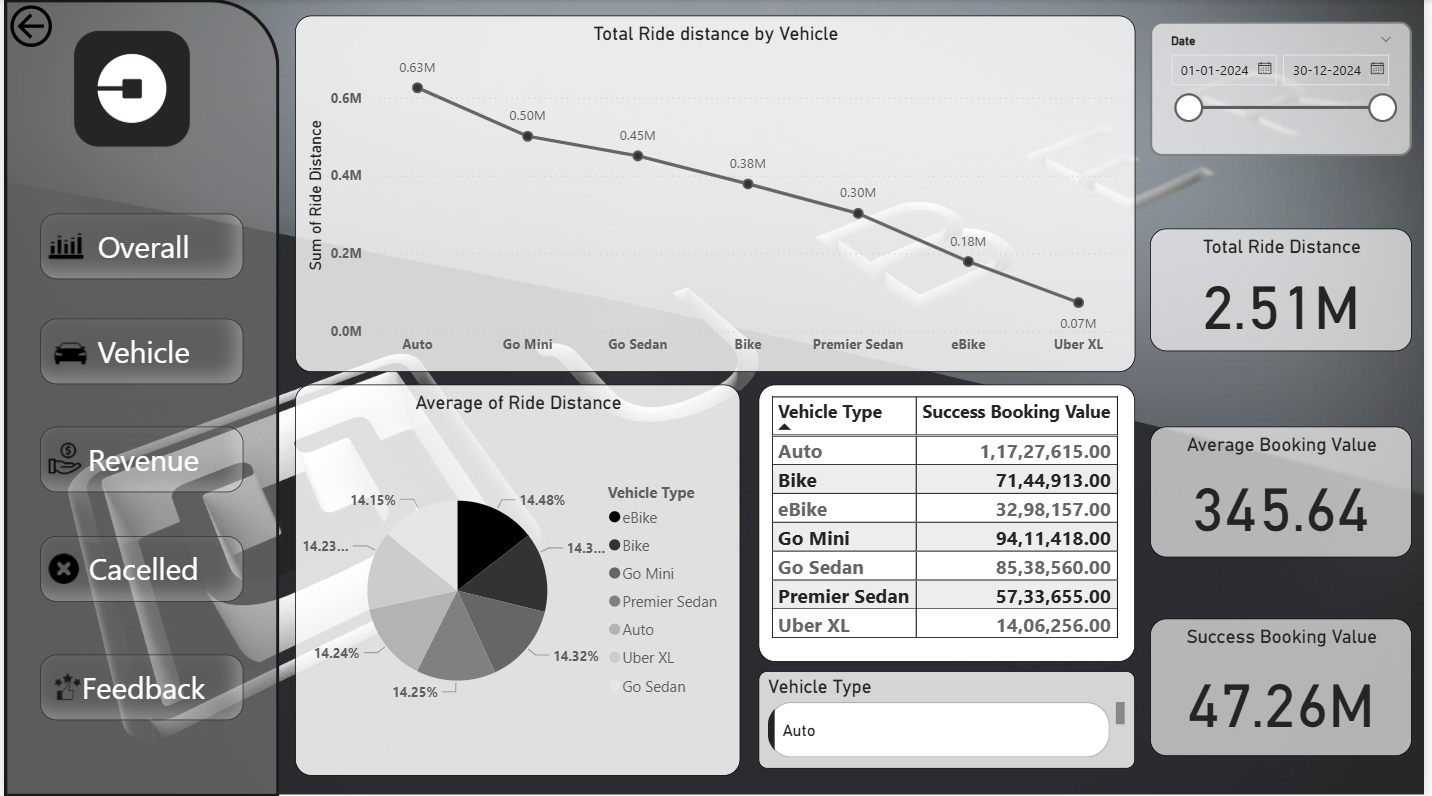

Layout of this report page (visuals, bound fields, positions):
{"tool":"powerbi","page":{"name":"Vehicle","canvas":[1280,720],"ordinal":2},"visuals":[{"type":"shape","box":[0,0,248.3,719.2],"z":0},{"type":"image","box":[0,16.7,230.2,128.7],"z":1000},{"type":"actionButton","box":[31.8,193.8,183.2,59.1],"z":2000},{"type":"actionButton","box":[31.8,484.5,183.2,59.1],"z":3000},{"type":"actionButton","box":[31.8,287.7,183.2,59.1],"z":4000},{"type":"actionButton","box":[31.8,384.6,183.2,59.1],"z":5000},{"type":"actionButton","box":[31.8,590.5,183.2,59.1],"z":6000},{"type":"slicer","fields":{"Values":["ncr_ride_bookings.Date"]},"box":[1032.7,19.7,236.2,121.1],"z":7000},{"type":"card","title":"Total Ride Distance","fields":{"Values":["Sum(ncr_ride_bookings.Ride Distance)"]},"box":[1032.7,207.4,236.2,110.5],"z":8000},{"type":"card","title":"Average Booking Value","fields":{"Values":["Avg(ncr_ride_bookings.Booking Value)"]},"box":[1032.7,384.6,236.2,118.1],"z":9000},{"type":"card","title":"Success Booking Value","fields":{"Values":["ncr_ride_bookings.Success Booking Value"]},"box":[1032.7,558.7,236.2,124.2],"z":10000},{"type":"pieChart","title":"Average of Ride Distance ","fields":{"Category":["ncr_ride_bookings.Vehicle Type"],"Y":["Avg(ncr_ride_bookings.Ride Distance)"]},"box":[262,346.8,401.3,352.8],"z":11000},{"type":"tableEx","fields":{"Values":["ncr_ride_bookings.Vehicle Type","ncr_ride_bookings.Success Booking Value"]},"box":[679.9,346.8,339.2,249.8],"z":12000},{"type":"lineChart","title":"Total Ride distance by Vehicle ","fields":{"Category":["ncr_ride_bookings.Vehicle Type"],"Y":["Sum(ncr_ride_bookings.Ride Distance)"]},"box":[262,15.1,757.1,321],"z":13000},{"type":"advancedSlicerVisual","fields":{"Values":["ncr_ride_bookings.Vehicle Type"]},"box":[679.9,605.7,339.2,87.8],"z":14000},{"type":"actionButton","box":[0,0,114.7,48.9],"z":15000}]}

Visuals, with their boxes in screenshot pixels (x1, y1, x2, y2), scaled from the page's 1280x720 canvas onto the 1432x796 screenshot:
shape: (0,0,278,795)
image: (0,18,258,161)
actionButton: (36,214,241,280)
actionButton: (36,536,241,601)
actionButton: (36,318,241,383)
actionButton: (36,425,241,491)
actionButton: (36,653,241,718)
slicer - ncr_ride_bookings.Date: (1155,22,1420,156)
"Total Ride Distance" card: (1155,229,1420,351)
"Average Booking Value" card: (1155,425,1420,556)
"Success Booking Value" card: (1155,618,1420,755)
"Average of Ride Distance " pieChart: (293,383,742,773)
tableEx - ncr_ride_bookings.Vehicle Type x ncr_ride_bookings.Success Booking Value: (761,383,1140,660)
"Total Ride distance by Vehicle " lineChart: (293,17,1140,372)
advancedSlicerVisual - ncr_ride_bookings.Vehicle Type: (761,670,1140,767)
actionButton: (0,0,128,54)
